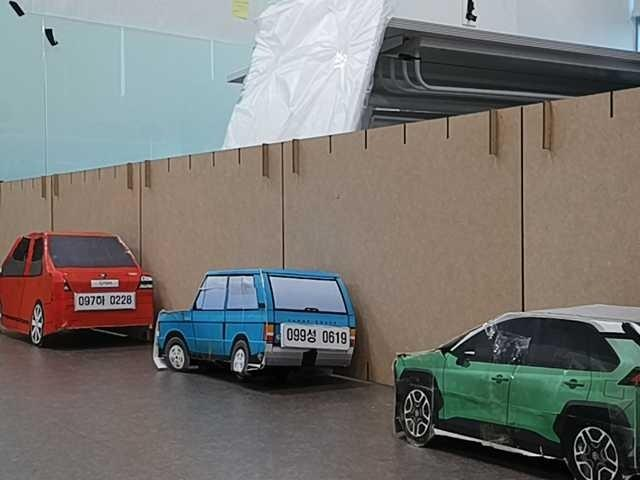car: (384, 299, 640, 472), (159, 250, 358, 381), (0, 231, 155, 346)
id: (279, 322, 352, 354), (72, 288, 137, 313)
